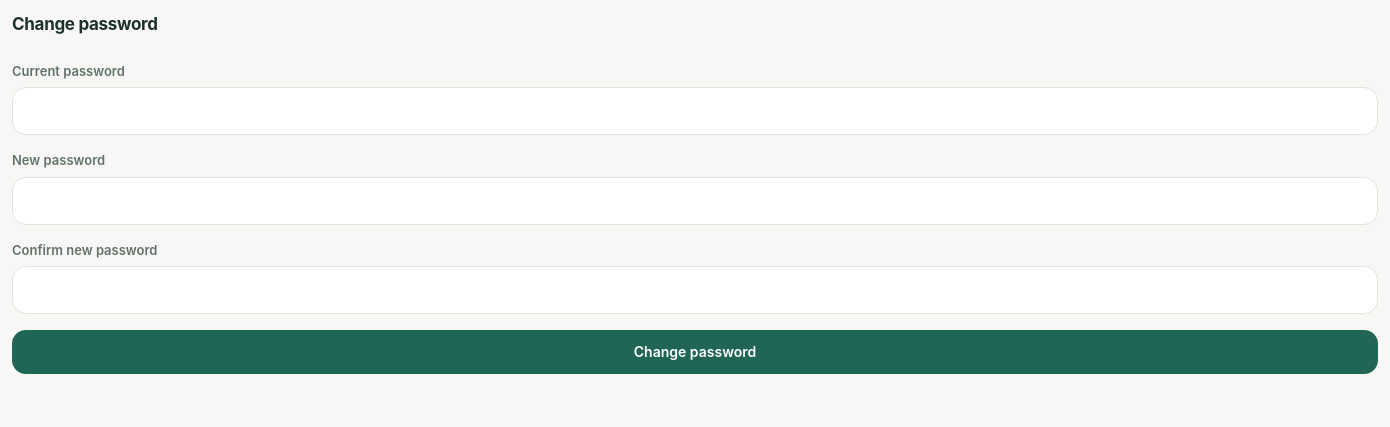
ChangePasswordForm › a wrong current password clears only that field and keeps the form usable
This screenshot has width=1390, height=427.
In the password field with test id "pw-current": (695, 111) [12,87,1378,135], type "bad-password"
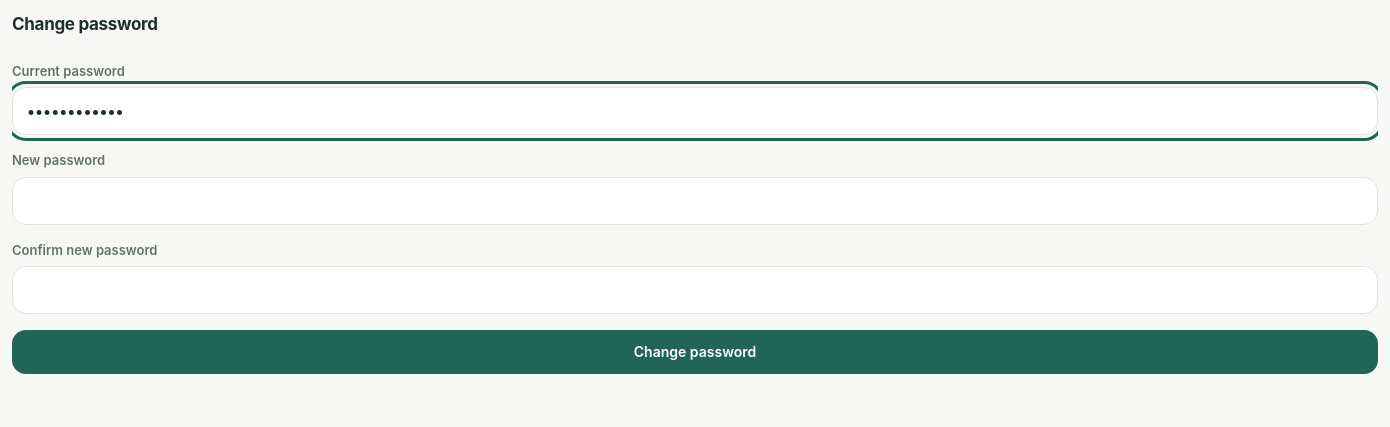
In the password field with test id "pw-new": (695, 200) [12,176,1378,224], type "new-password"
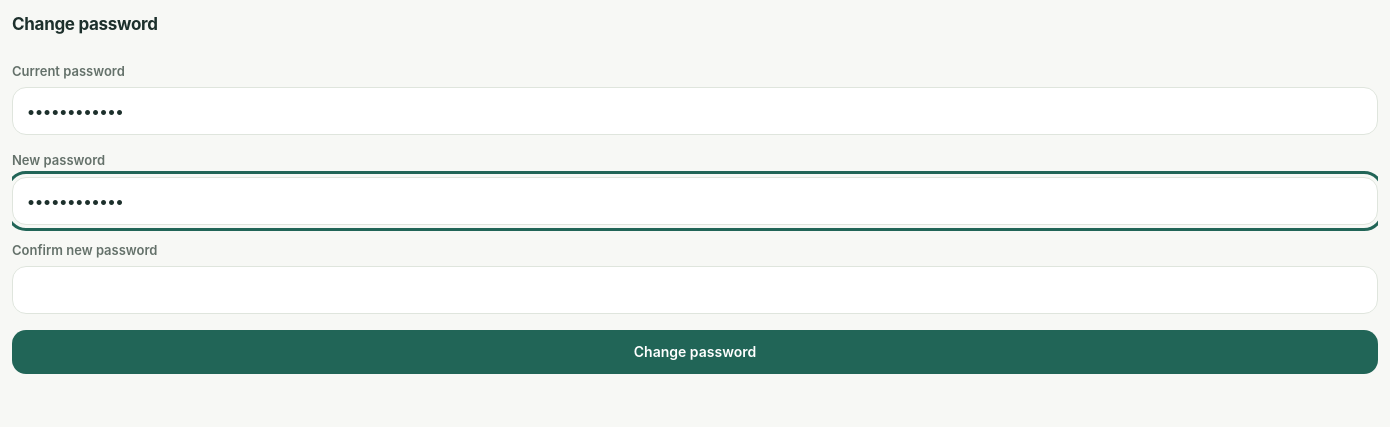
In the password field with test id "pw-confirm": (695, 290) [12,266,1378,314], type "new-password"
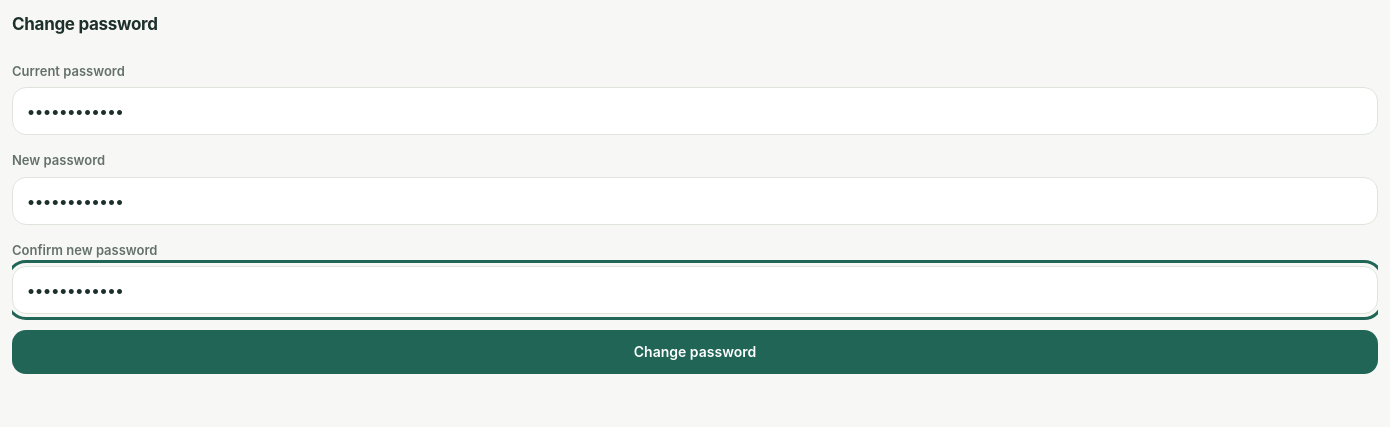
Click the button with test id "pw-submit": (695, 352) [12,330,1378,374]
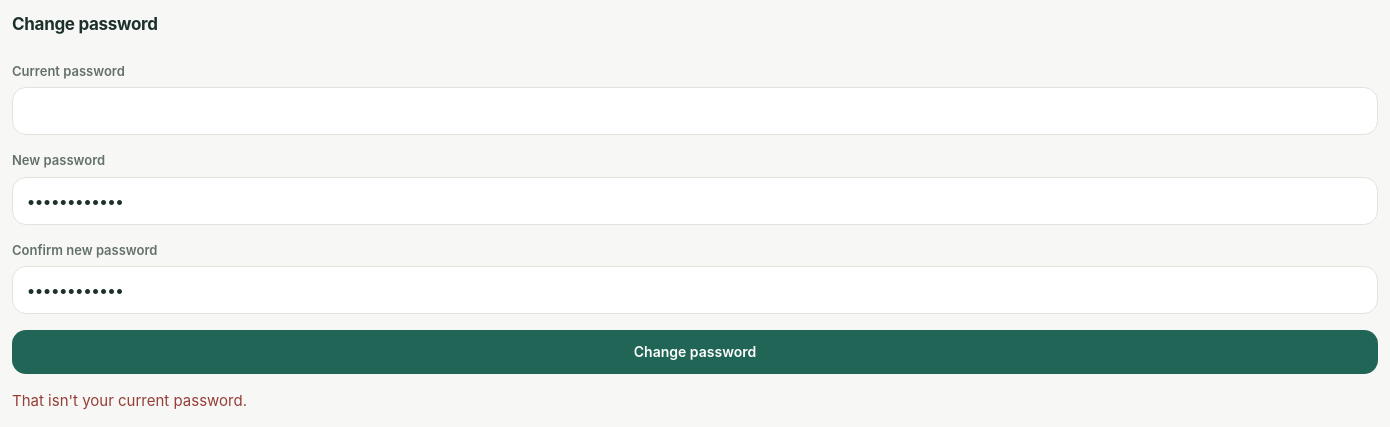
Expected: the message with test id "pw-outcome" reads "That isn't your current password.", [12,391,247,410]
Expected: the password field with test id "pw-current" is empty, [12,87,1378,135]
